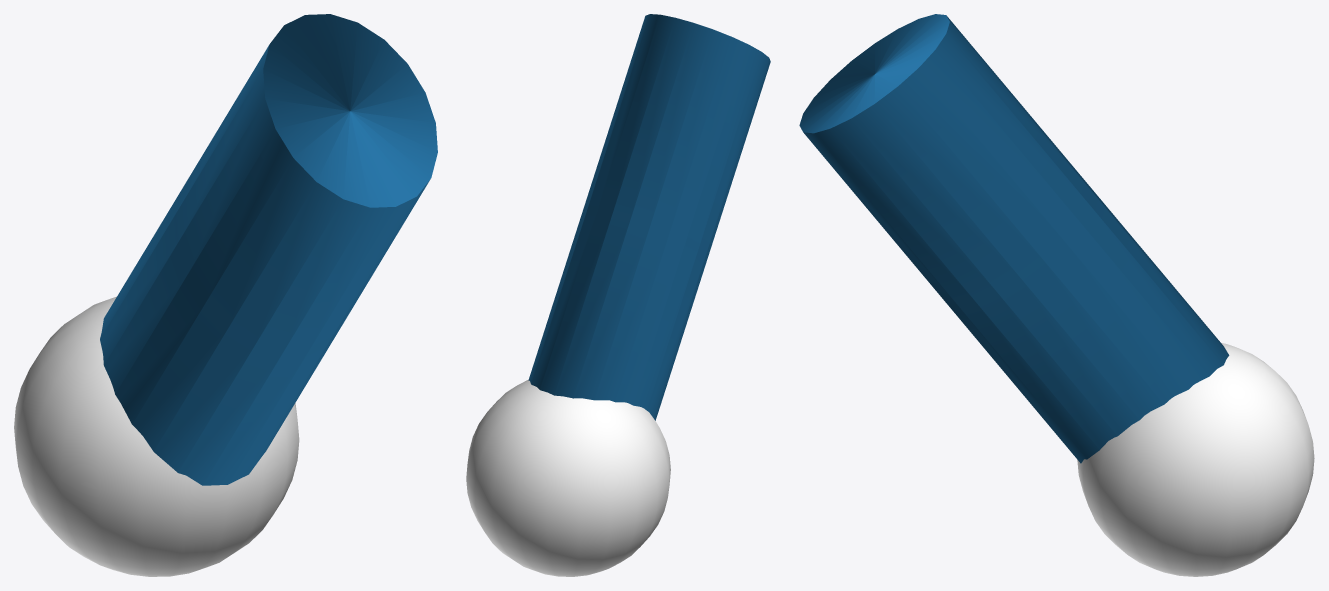
The model's file is DoraemonRightHand.obj.
The picture shows the model from 3 angles, left to right: view 1: azimuth 30°, elevation 25°; view 2: azimuth 150°, elevation 25°; view 3: azimuth 270°, elevation 25°; orthographic projection. The views are drawn at different scales.
Parts seen in each view (by area): view 1: polySurface3 pasted__pPipe1, pasted__pPipe1 polySurface4; view 2: polySurface3 pasted__pPipe1, pasted__pPipe1 polySurface4; view 3: polySurface3 pasted__pPipe1, pasted__pPipe1 polySurface4.
Part boxes in pixels (left/top/right/bottom): polySurface3 pasted__pPipe1: left=100, top=14, right=437, bottom=485; pasted__pPipe1 polySurface4: left=14, top=296, right=299, bottom=576; polySurface3 pasted__pPipe1: left=528, top=14, right=770, bottom=420; pasted__pPipe1 polySurface4: left=466, top=379, right=670, bottom=576; polySurface3 pasted__pPipe1: left=799, top=14, right=1229, bottom=463; pasted__pPipe1 polySurface4: left=1077, top=343, right=1314, bottom=576.
Size of the model in its own units: 0.2691 by 0.6806 by 0.5841.
Materials: 1 (1 with a texture image).
